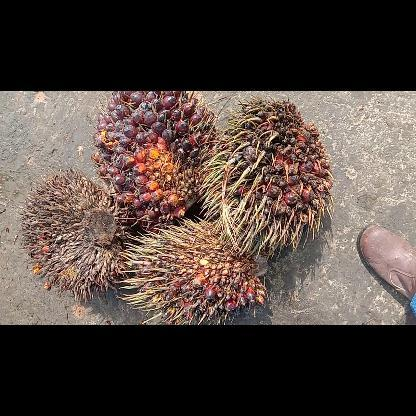Kurang masak: (206, 98, 330, 258)
TBS abnormal: (119, 216, 269, 324), (23, 170, 128, 300)
Terlalu masak: (92, 90, 218, 228)
